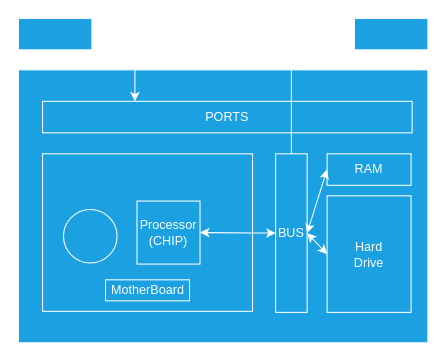
Image size: 446x361. Some labels were removed from this diagram. The centre of each missing label's shape, as x and y in pixels:
"INPUT DEVICES" belongs at (54,33).
"OUTPUT DEVICES" belongs at (390,33).
"ROM" belongs at (89,235).
